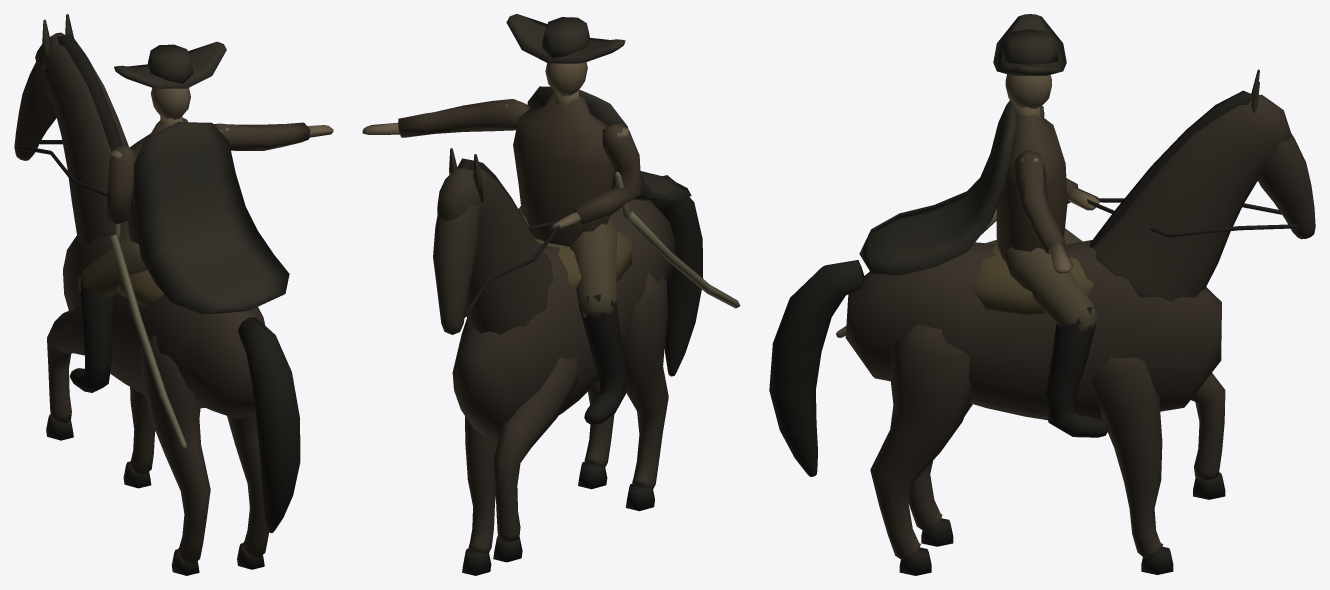
Rendered from equestrian-figure.glb.
3 renders of one model, left to right at view 1: azimuth 30°, elevation 25°; view 2: azimuth 150°, elevation 25°; view 3: azimuth 270°, elevation 25°, orthographic. The views are drawn at different scales.
Parts seen in each view (by area): view 1: body; view 2: body; view 3: body.
Part boxes in pixels (<box>): body: <box>14,14,333,575</box>; body: <box>362,14,740,575</box>; body: <box>769,14,1315,575</box>.
Bounding box in the file's own units: 1.95 × 3.5 × 3.36.
